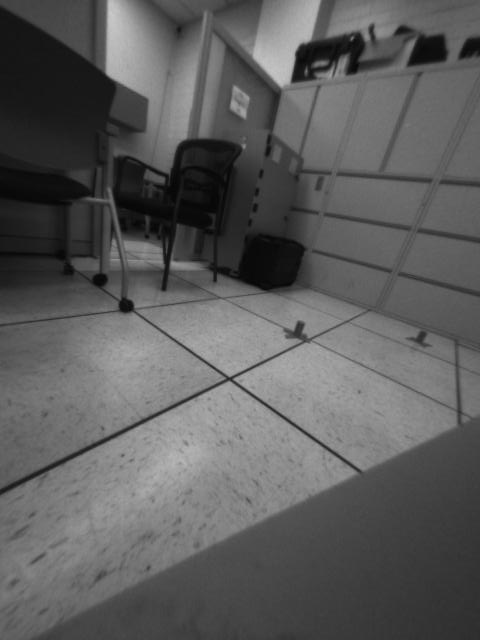X: (404, 327, 432, 350), (281, 321, 308, 340)
